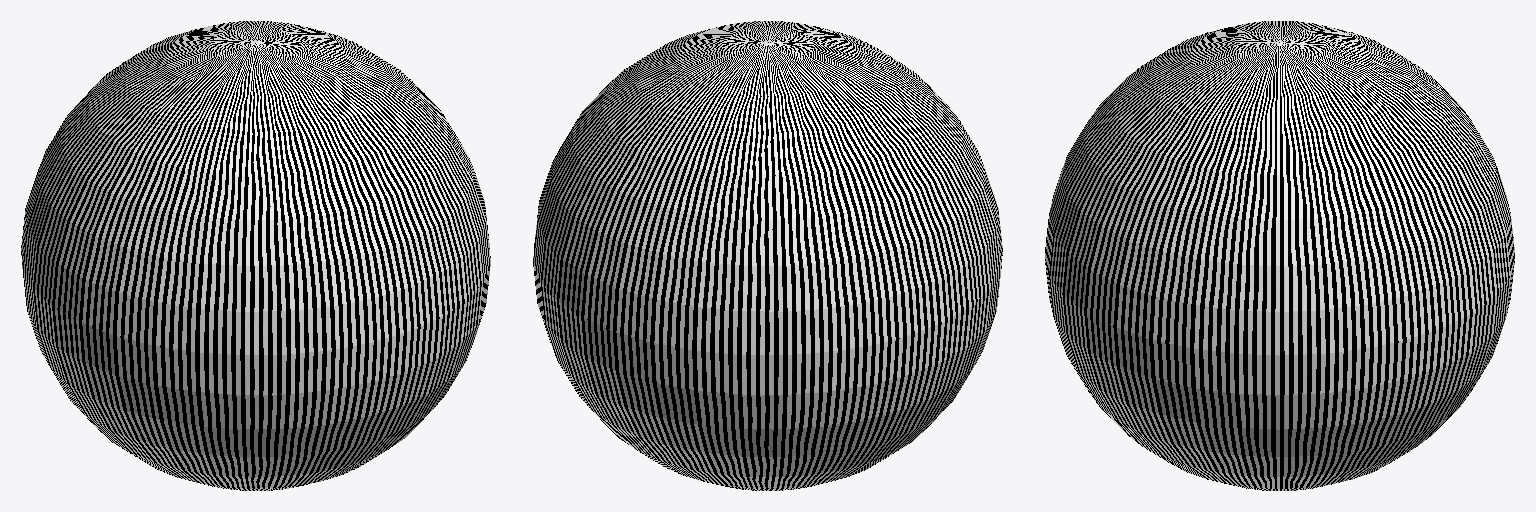
3 views of the same model, side by side, from view 1: azimuth 30°, elevation 25°; view 2: azimuth 150°, elevation 25°; view 3: azimuth 270°, elevation 25° (orthographic).
Visible parts, largest first — view 1: Sphere; view 2: Sphere; view 3: Sphere.
Part boxes in pixels (left/top/right/bottom): Sphere: left=21, top=21, right=490, bottom=490; Sphere: left=533, top=21, right=1002, bottom=490; Sphere: left=1045, top=21, right=1514, bottom=490.
Size of the model in its own units: 2.95 by 2.95 by 2.95.
1 materials, 1 textured.